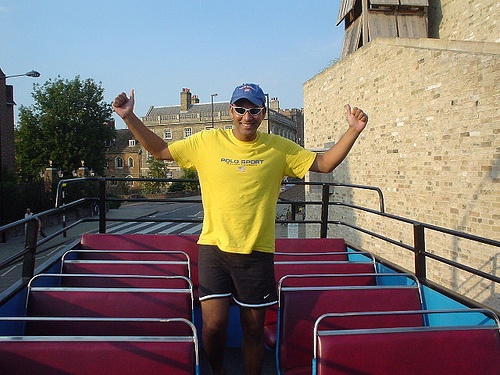head: (231, 85, 267, 139)
person: (109, 78, 370, 375)
